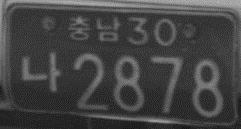0: (153, 18, 177, 46)
2: (71, 51, 108, 110)
3: (125, 16, 148, 45)
7: (149, 54, 184, 113)
8: (190, 58, 224, 117), (113, 54, 144, 112)
나: (21, 51, 61, 92)
충남_O: (67, 14, 120, 41)
